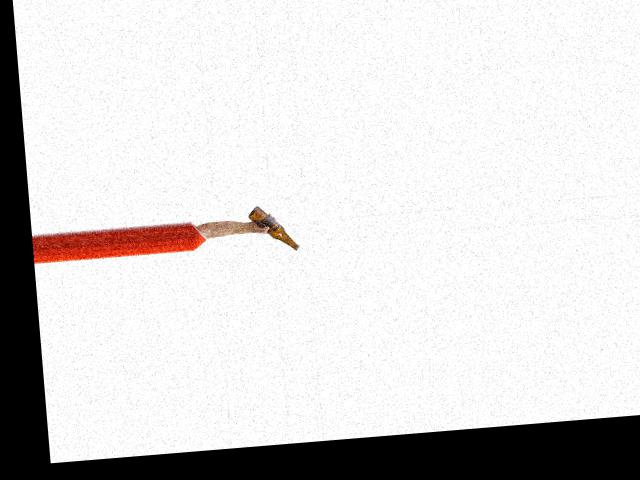beer: (247, 202, 299, 253)
